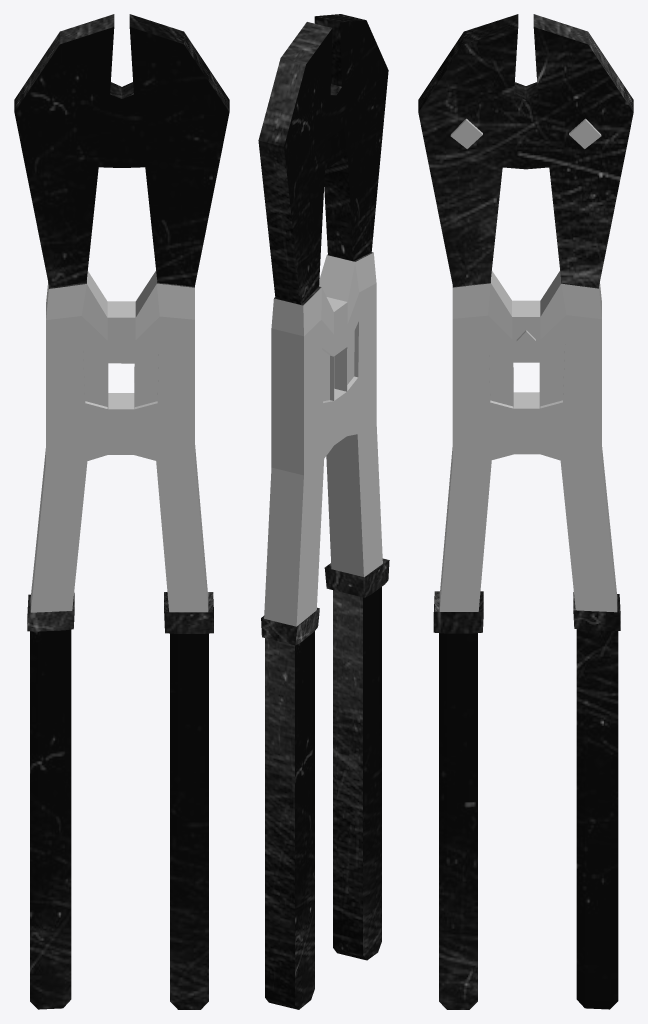
File: BoltCutters.fbx
3 views of the same model, side by side, from view 1: azimuth 90°, elevation 25°; view 2: azimuth 150°, elevation 25°; view 3: azimuth 270°, elevation 25° (orthographic). The views are drawn at different scales.
Parts seen in each view (by area): view 1: BoltCutters; view 2: BoltCutters; view 3: BoltCutters.
Boxes of the visible parts, left/top/right/bottom form: BoltCutters: left=14, top=14, right=229, bottom=1009; BoltCutters: left=258, top=14, right=389, bottom=1009; BoltCutters: left=418, top=14, right=633, bottom=1009.
Size of the model in its own units: 7.62 by 170 by 33.67.
